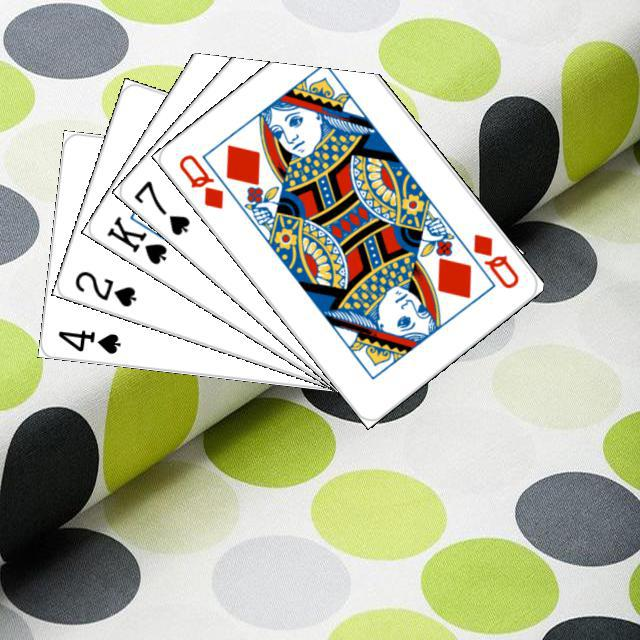2s: (69, 266, 138, 309)
4s: (53, 325, 123, 356)
7s: (129, 175, 192, 238)
Ks: (102, 211, 169, 267)
Qd: (467, 229, 521, 291), (173, 149, 226, 211)
